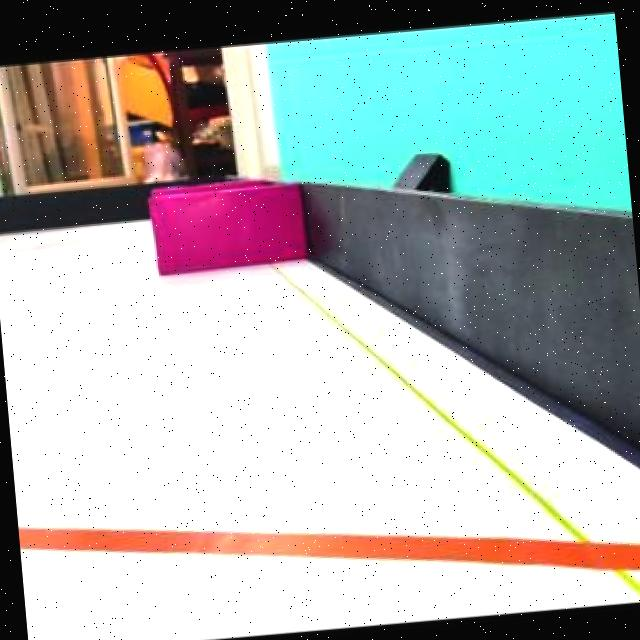xparking: (150, 187, 298, 270)
